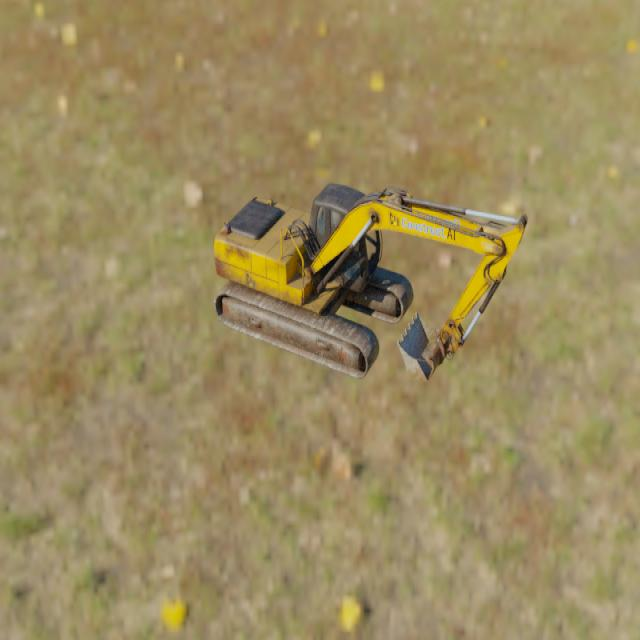excavator: (213, 181, 528, 383)
